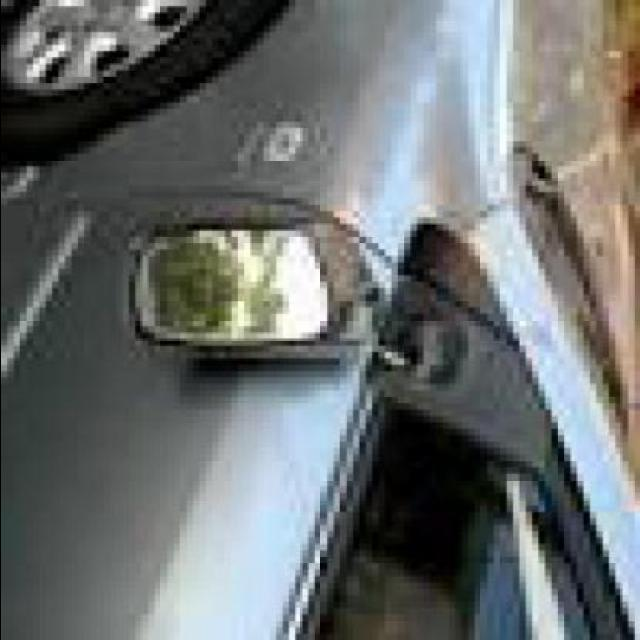Sidemirror-Damage: (102, 202, 448, 368)
